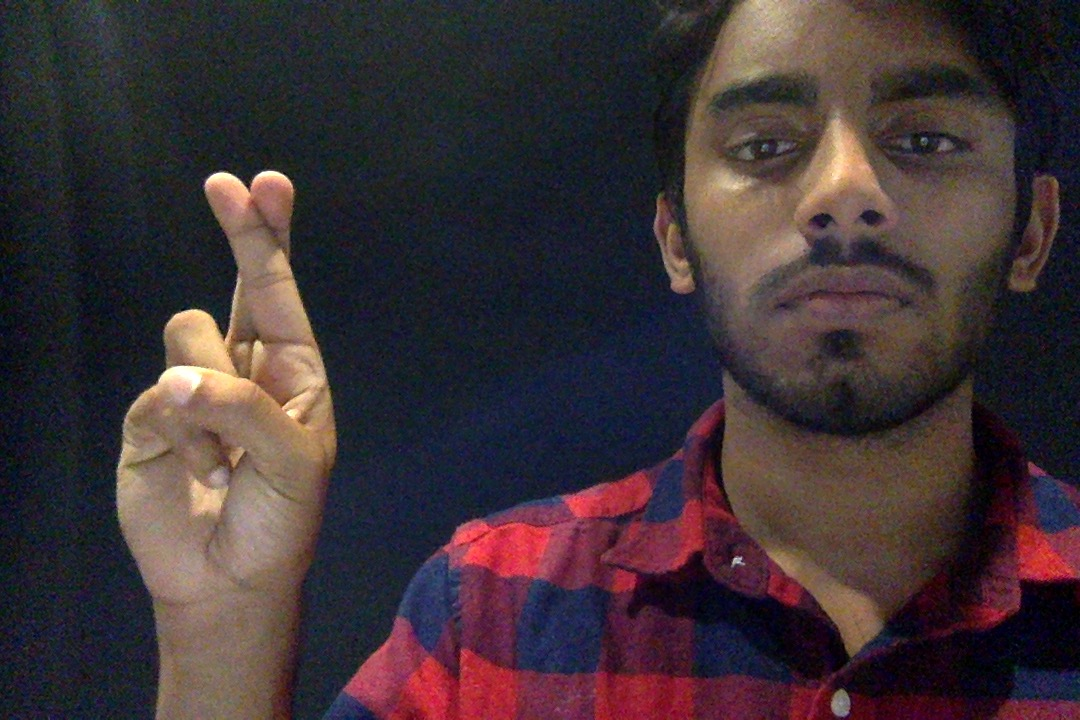r: (92, 133, 375, 622)
